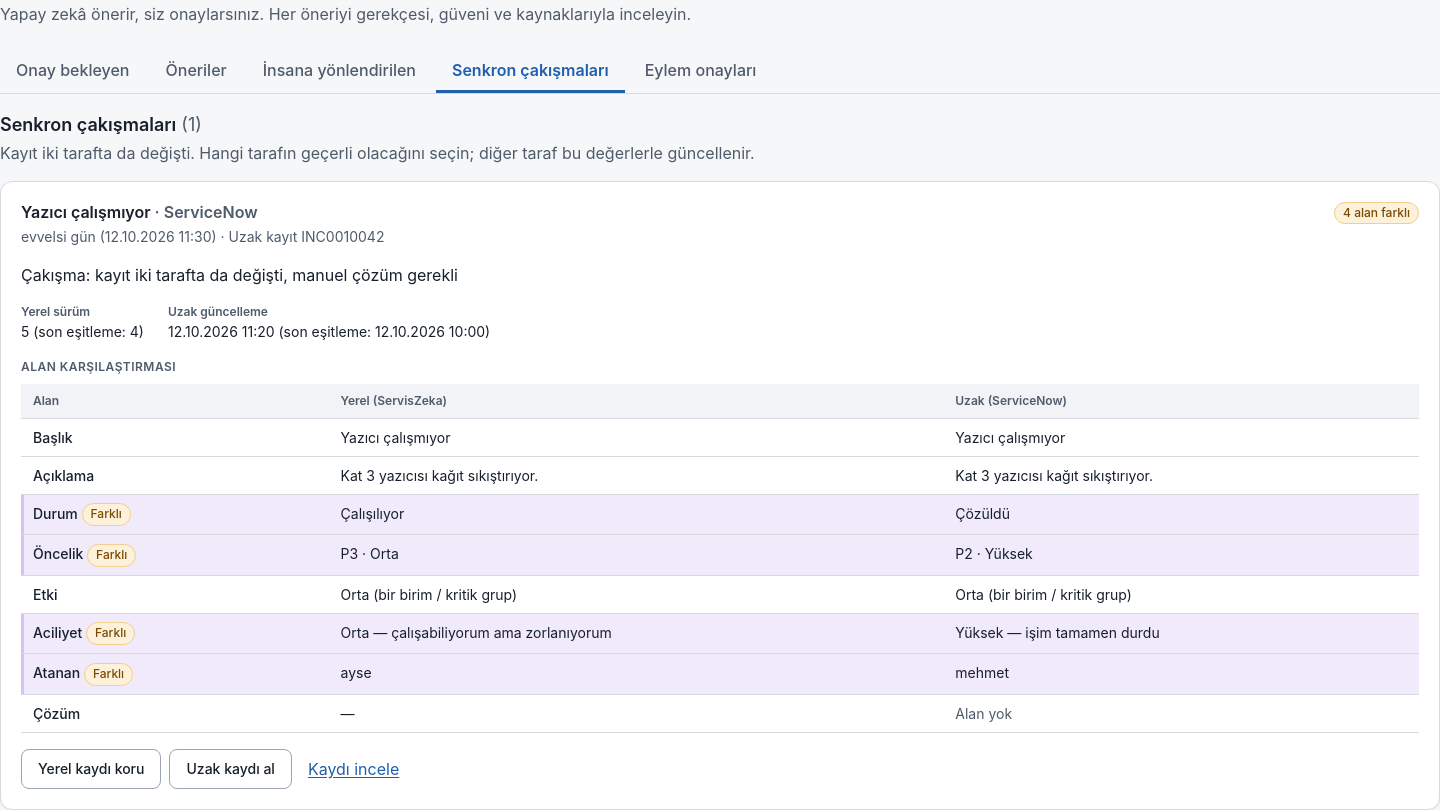
Test: ApprovalsPage — senkron çakışmaları › yerel kaydı koru: onay sonrası winner=local gönderilir ve liste yenilenir
(page scrolled)
Click the button "Yerel kaydı koru": (91, 769) [21,749,162,789]
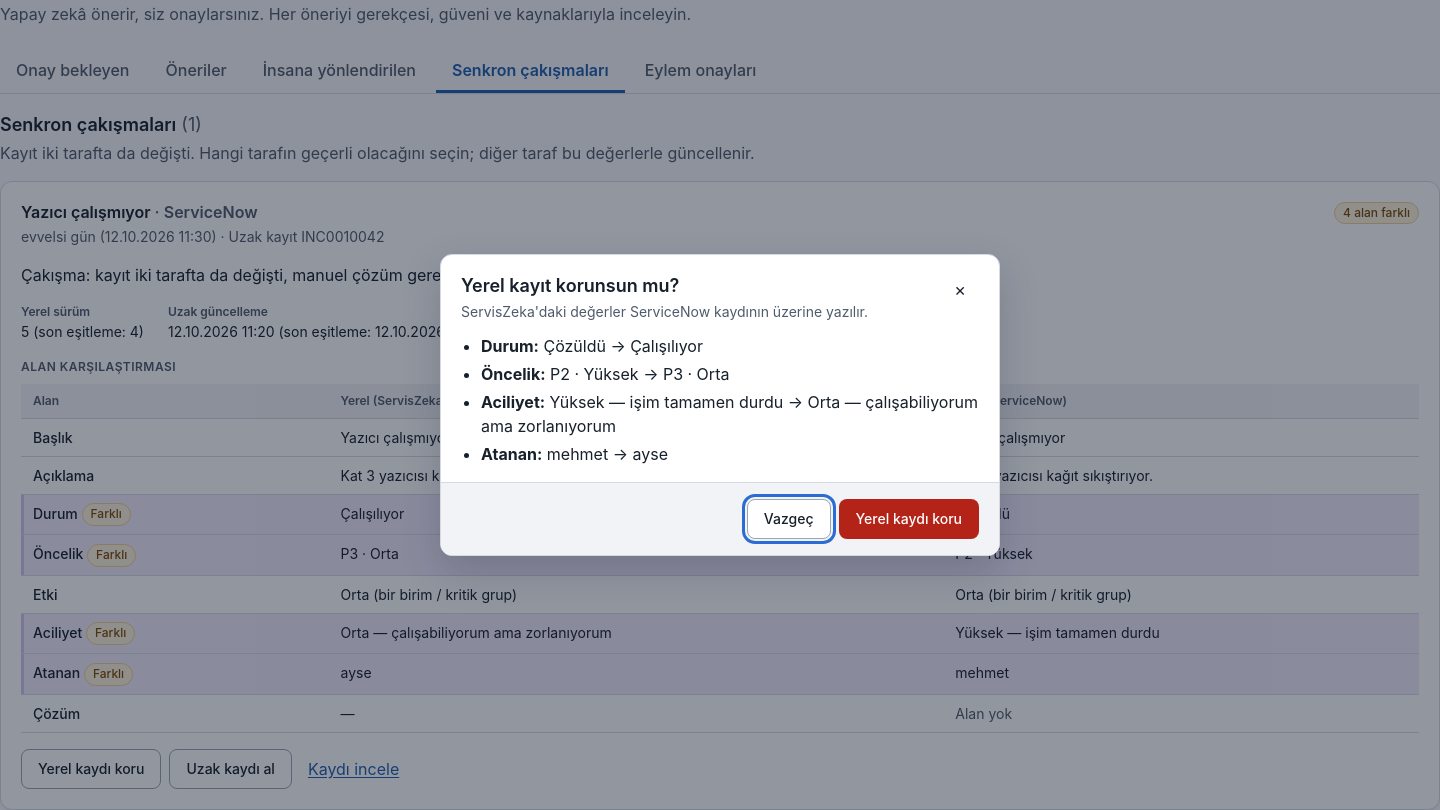
Click the button "Yerel kaydı koru": (909, 519) [838,499,979,539]
(page scrolled)
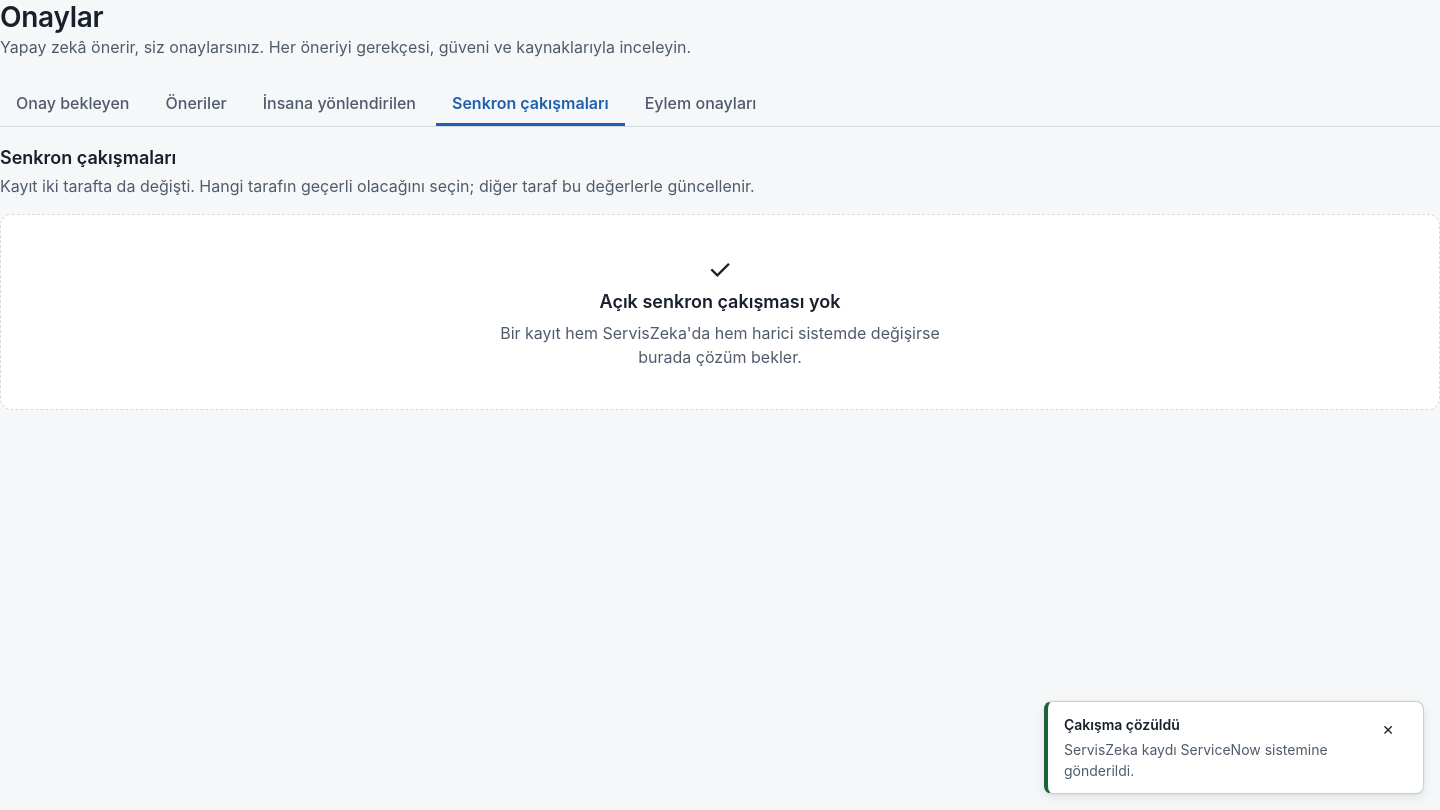
Check: the text "Çakışma çözüldü" is shown, box [1064,716,1180,733]
Check: the heading "Açık senkron çakışması yok" is shown, box [600,290,840,313]
